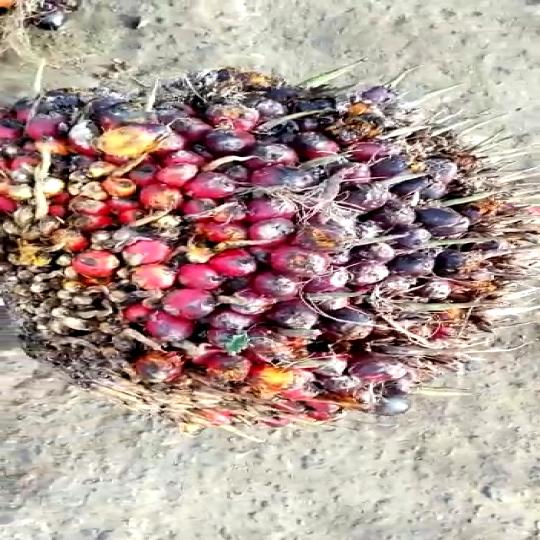masak: (0, 70, 540, 442)
